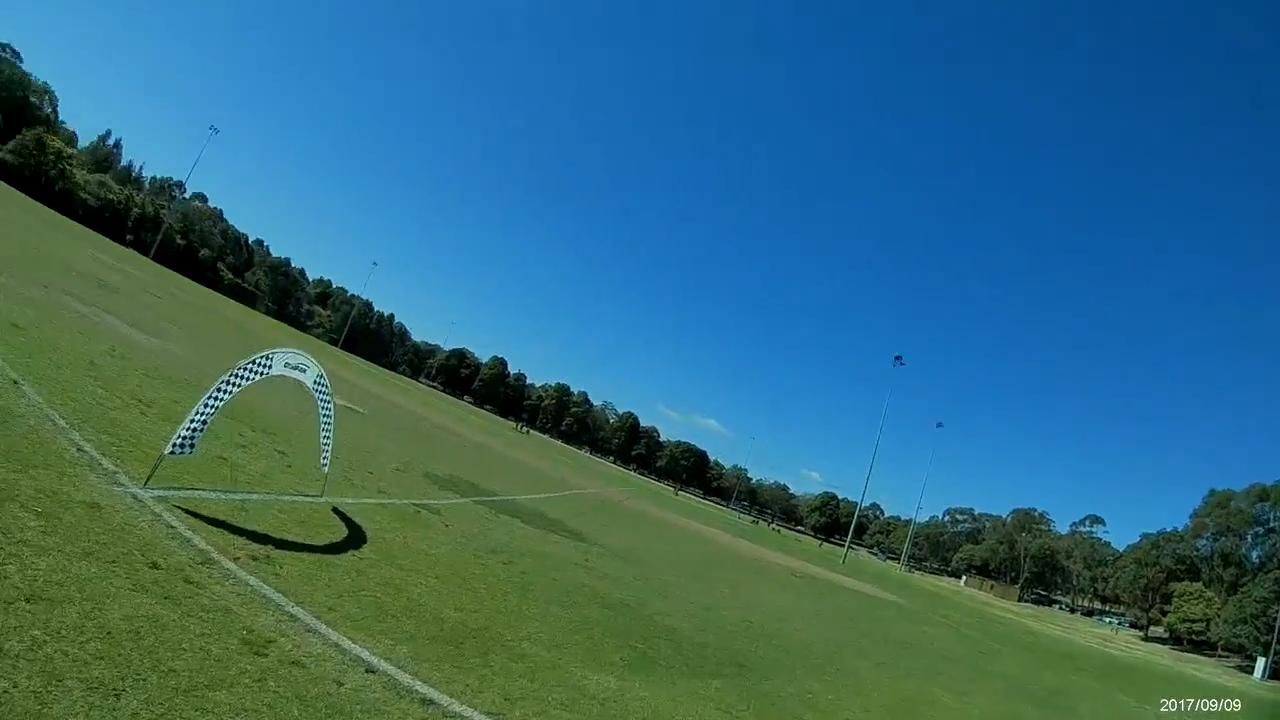gate: (163, 345, 336, 472)
